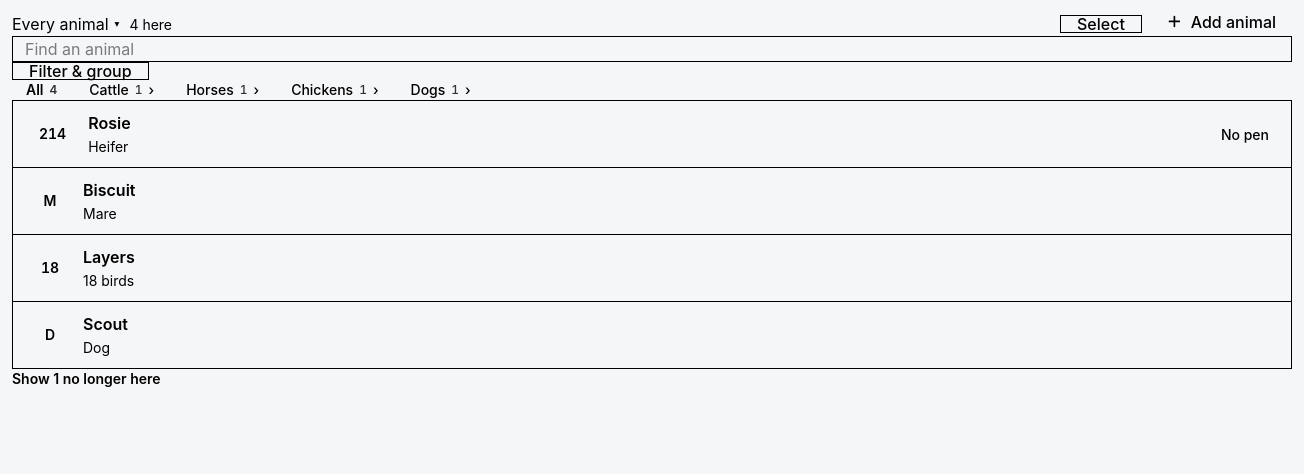
Test case: the Animals list › lists every species, with a chip that counts each
Expected: the number of list items is 4, [13,101,1291,168]; [13,168,1291,235]; [13,235,1291,302]; [45,314,128,356]
Expected: the button "All 4" is shown, [12,80,71,100]
# The sold cow is folded away, not lost.
Click the button "Show 1 no longer here".
click(86, 379)  # box [12,369,161,389]
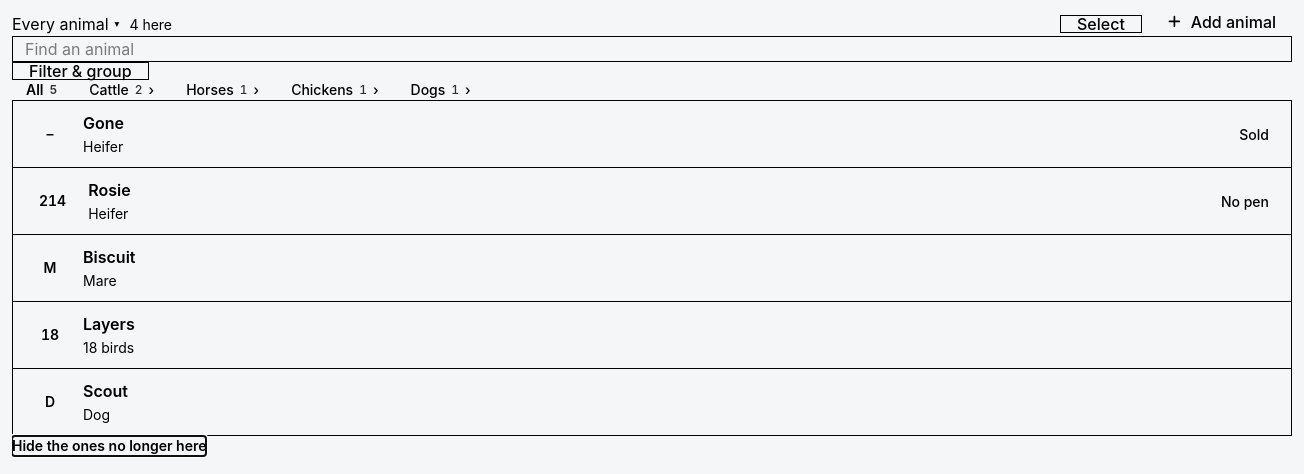
Expected: the button "All 5" is shown, [12,80,71,100]
Expected: the text "Gone" is shown, [83,113,124,133]
